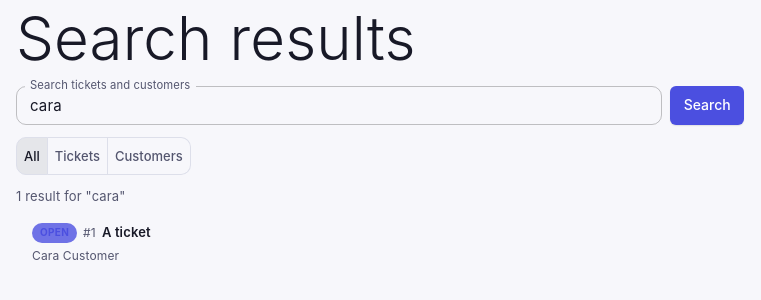
Test case: SearchResultsPage › keeps the filter in the URL and sends it to the API
Expected: the text "A ticket" is shown, left=102, top=223, right=151, bottom=243
Click the button "Customers".
click(149, 156)  # box left=107, top=137, right=191, bottom=175
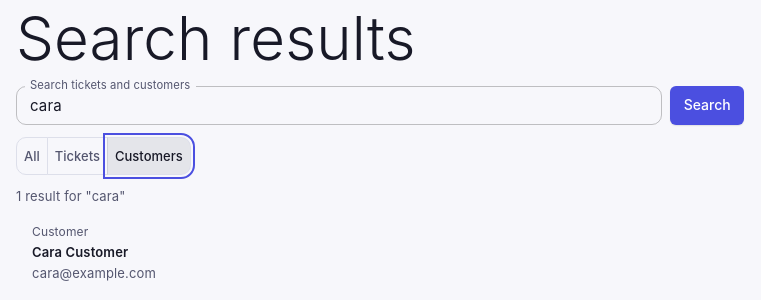
Result: the text "cara@example.com" is shown at left=32, top=264, right=156, bottom=284
